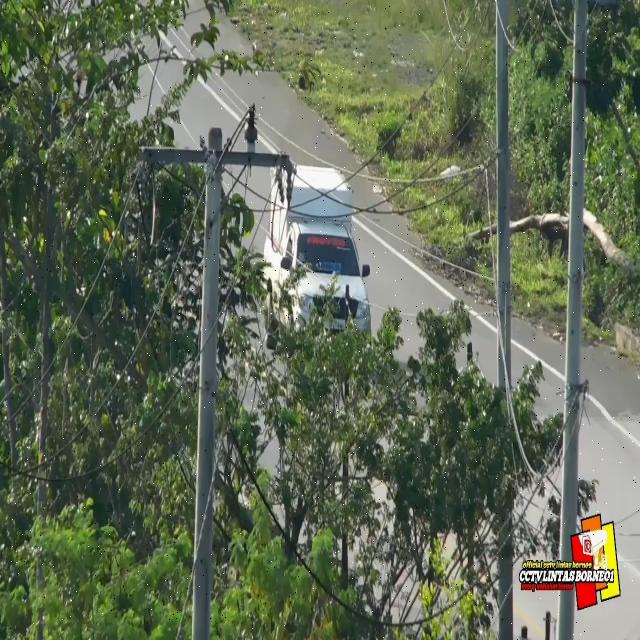Golongan IVB: (262, 220, 372, 348)
